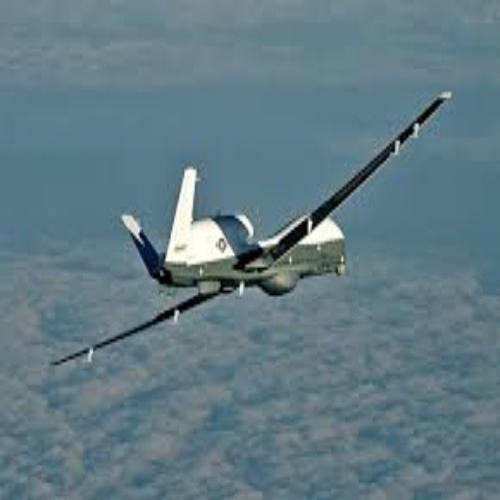uav: (50, 94, 456, 367)
